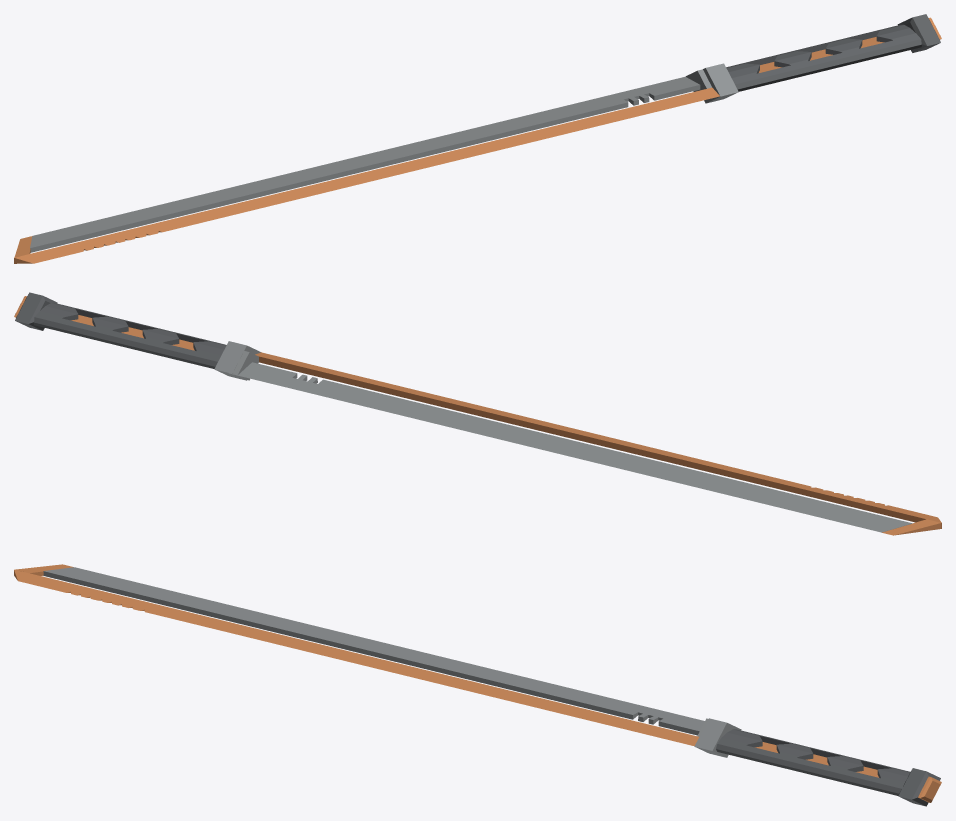
File: KATANA cyber (3).glb
The picture shows the model from 3 angles, top to bottom: view 1: azimuth 30°, elevation 25°; view 2: azimuth 150°, elevation 25°; view 3: azimuth 330°, elevation 25°; orthographic projection.
Parts seen in each view (by area): view 1: Mesh_Mesh_head_geo.001_lambert2SG.001; view 2: Mesh_Mesh_head_geo.001_lambert2SG.001; view 3: Mesh_Mesh_head_geo.001_lambert2SG.001.
Part boxes in pixels (<box>): Mesh_Mesh_head_geo.001_lambert2SG.001: <box>14,14,941,263</box>; Mesh_Mesh_head_geo.001_lambert2SG.001: <box>14,292,941,535</box>; Mesh_Mesh_head_geo.001_lambert2SG.001: <box>14,564,941,806</box>.
Bounding box in the file's own units: 252 × 9.3 × 14.
